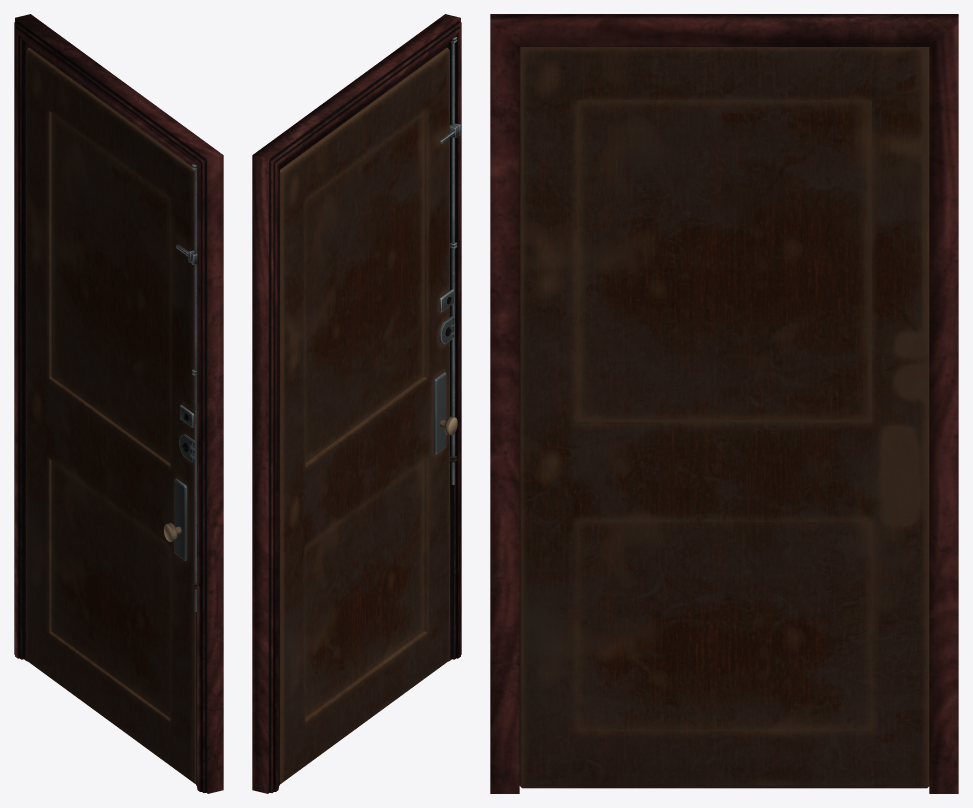
3 renders of one model, left to right at view 1: azimuth 30°, elevation 25°; view 2: azimuth 150°, elevation 25°; view 3: azimuth 270°, elevation 25°, orthographic. The views are drawn at different scales.
Visible parts, largest first — view 1: DoZL1; view 2: DoZL1; view 3: DoZL1.
Boxes of the visible parts, x1=… form: DoZL1: x1=14, y1=14, x2=223, y2=793; DoZL1: x1=252, y1=14, x2=461, y2=793; DoZL1: x1=490, y1=14, x2=958, y2=793.
Bounding box in the file's own units: 0.1589 × 3.03 × 1.67.
Materials: 1 (1 with a texture image).
